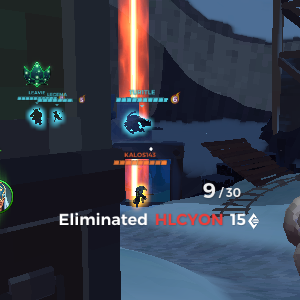model: (131, 181, 151, 210)
